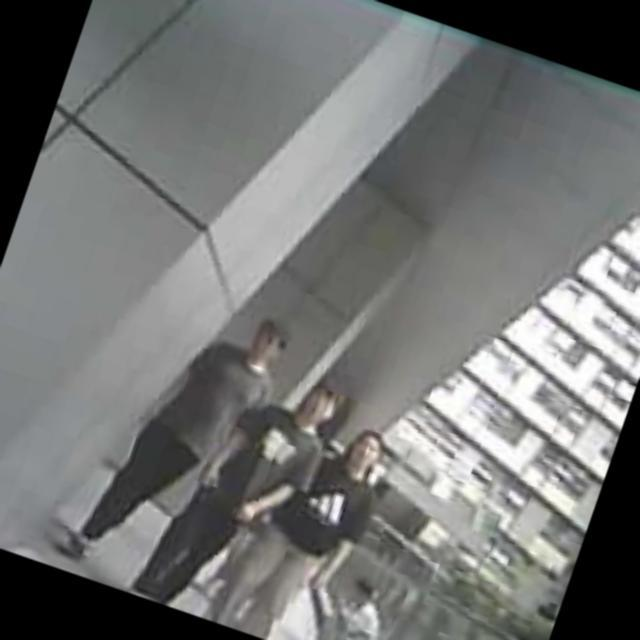person: (56, 278, 299, 608), (132, 349, 347, 638), (210, 403, 396, 640), (305, 567, 395, 640)
